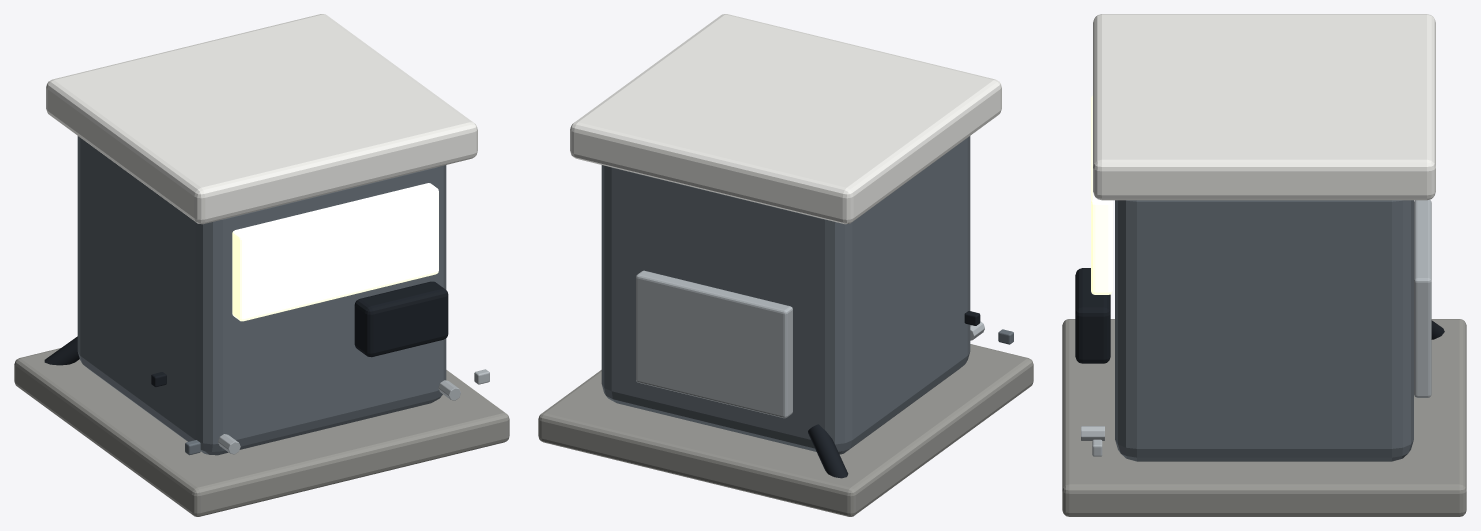
Rendered from prop_studio_equipment_cart_a_v01.glb.
3 views of the same model, side by side, from view 1: azimuth 30°, elevation 25°; view 2: azimuth 150°, elevation 25°; view 3: azimuth 270°, elevation 25° (orthographic). The views are drawn at different scales.
Visible parts, largest first — view 1: component__structural_enclosure_or_frame__enclosure, component__safety_and_weather_protection__weather_hood, component__anchored_base_or_mount__base_mount, component__primary_operating_surface__operating_surface, component__user_control_or_connection__control, component__power_conduit_drainage_or_network_path__service_p; view 2: component__structural_enclosure_or_frame__enclosure, component__safety_and_weather_protection__weather_hood, component__anchored_base_or_mount__base_mount, component__service_access__service_access, component__power_conduit_drainage_or_network_path__service_p; view 3: component__structural_enclosure_or_frame__enclosure, component__safety_and_weather_protection__weather_hood, component__anchored_base_or_mount__base_mount, component__service_access__service_access, component__user_control_or_connection__control, component__primary_operating_surface__operating_surface.
Part boxes in pixels (x1,y1,x2,y2): component__structural_enclosure_or_frame__enclosure: (77, 136, 446, 455); component__safety_and_weather_protection__weather_hood: (46, 14, 477, 224); component__anchored_base_or_mount__base_mount: (14, 348, 509, 516); component__primary_operating_surface__operating_surface: (232, 183, 438, 321); component__user_control_or_connection__control: (354, 281, 448, 357); component__power_conduit_drainage_or_network_path__service_p: (44, 336, 79, 365); component__structural_enclosure_or_frame__enclosure: (601, 136, 970, 454); component__safety_and_weather_protection__weather_hood: (570, 14, 1001, 224); component__anchored_base_or_mount__base_mount: (538, 344, 1033, 516); component__service_access__service_access: (636, 270, 792, 418); component__power_conduit_drainage_or_network_path__service_p: (808, 424, 848, 478); component__structural_enclosure_or_frame__enclosure: (1115, 200, 1413, 461); component__safety_and_weather_protection__weather_hood: (1093, 14, 1435, 200); component__anchored_base_or_mount__base_mount: (1062, 319, 1466, 516); component__service_access__service_access: (1414, 199, 1431, 397); component__user_control_or_connection__control: (1075, 268, 1110, 363); component__primary_operating_surface__operating_surface: (1091, 95, 1112, 294).
Size of the model in its own units: 1.38 by 1.31 by 1.38.
